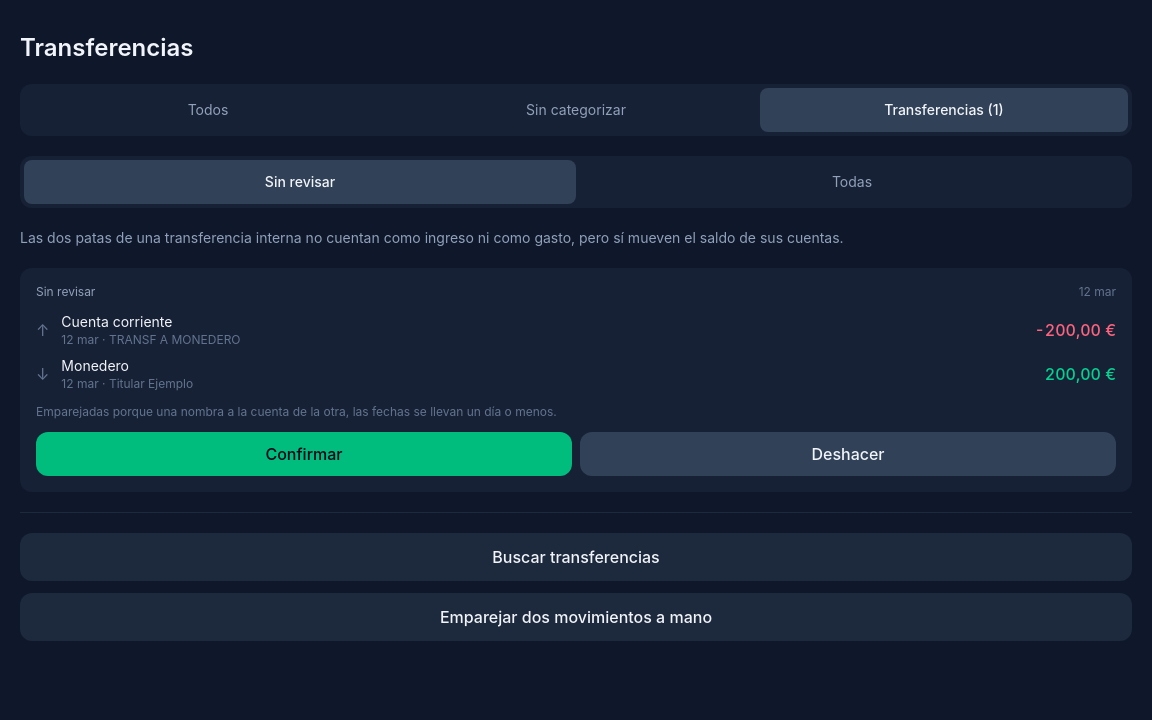
Scenario: TransfersScreen · volver a buscar › cuenta lo emparejado y avisa de los empates que quedan a mano
Click the button "Buscar transferencias" at (576, 557), box x1=20 y1=533 x2=1132 y2=581
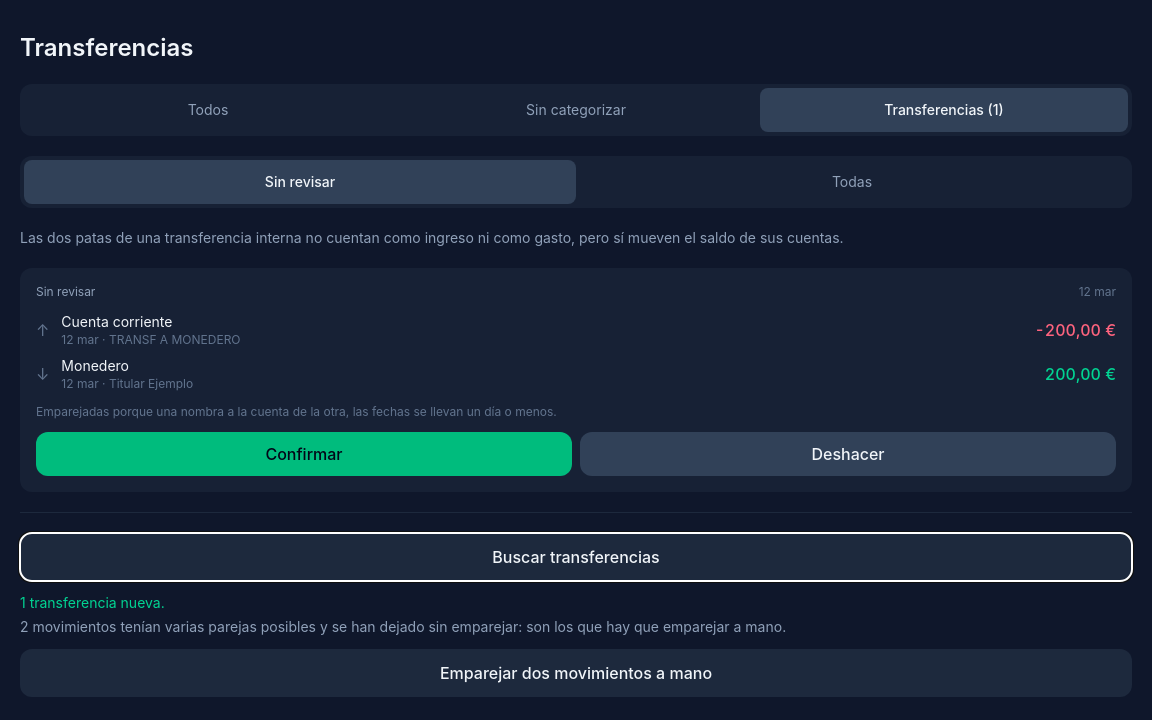
Now the text "1 transferencia nueva." is shown, box x1=20 y1=594 x2=165 y2=611
Now the text "2 movimientos tenían" is shown, box x1=20 y1=618 x2=786 y2=635
